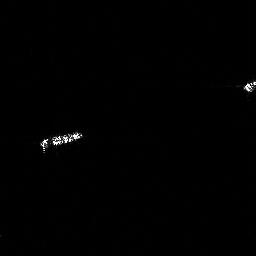ship: (39, 129, 84, 153)
